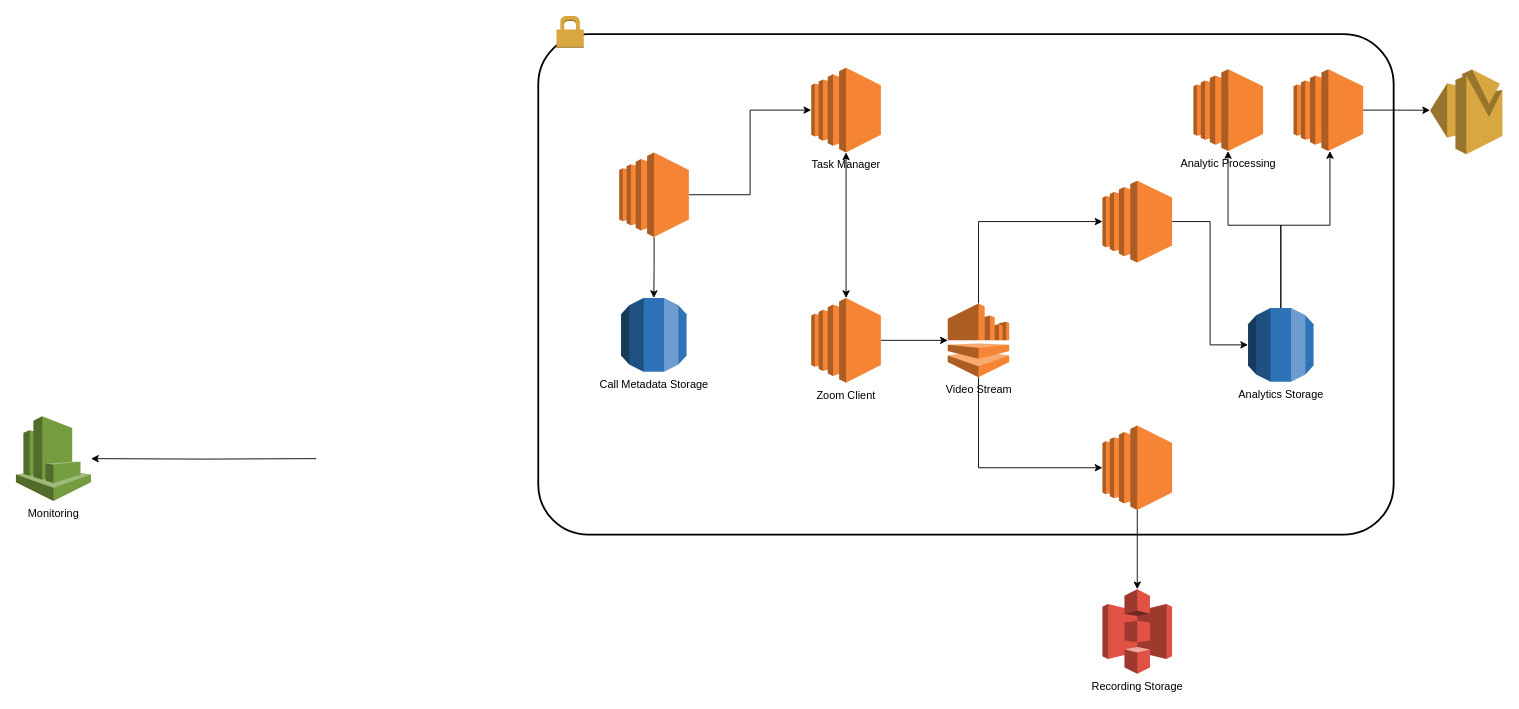
This 1519x709 diagram has some shape labels left out. The shapes that lost their labels are listed below. From the top down, each one's centre as x and y in pixels, then its label:
At pixel 1328 109: "Analytic Reporter".
At pixel 653 194: "Zoom Connection".
At pixel 1137 221: "Video Processing".
At pixel 1137 467: "Recorders".
